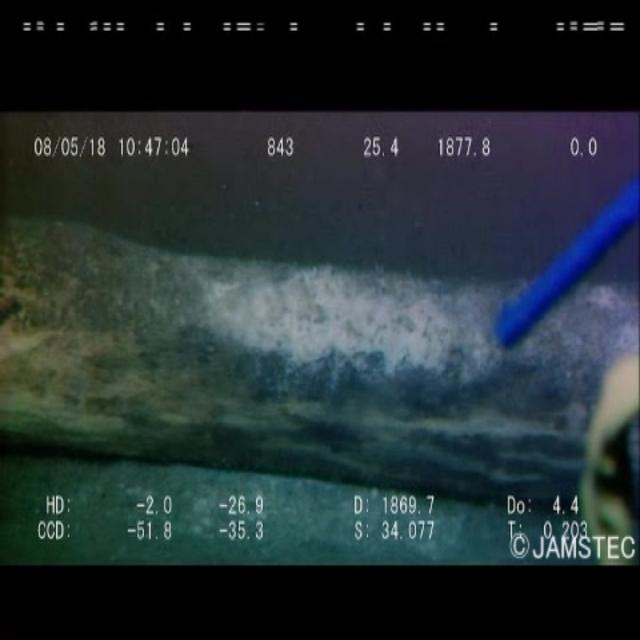Wood: (6, 189, 640, 532)
